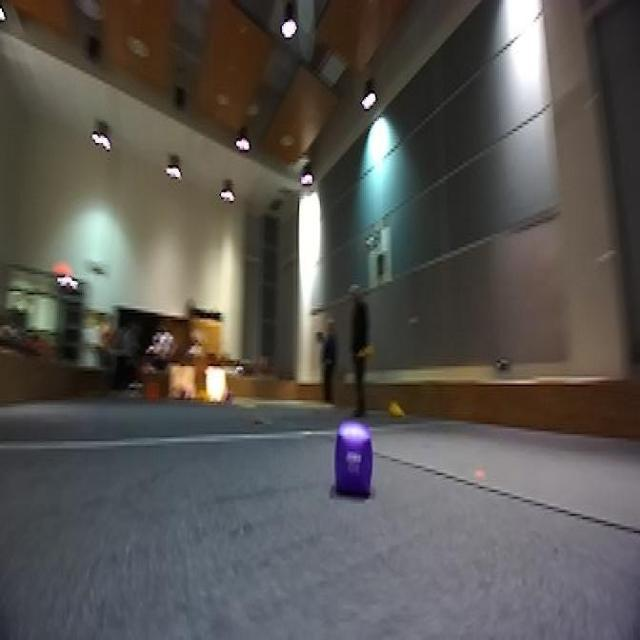frc_cone: (386, 393, 404, 419), (190, 386, 210, 404), (357, 342, 374, 363)
frc_cube: (334, 424, 376, 495), (174, 384, 189, 402), (225, 388, 237, 405)
